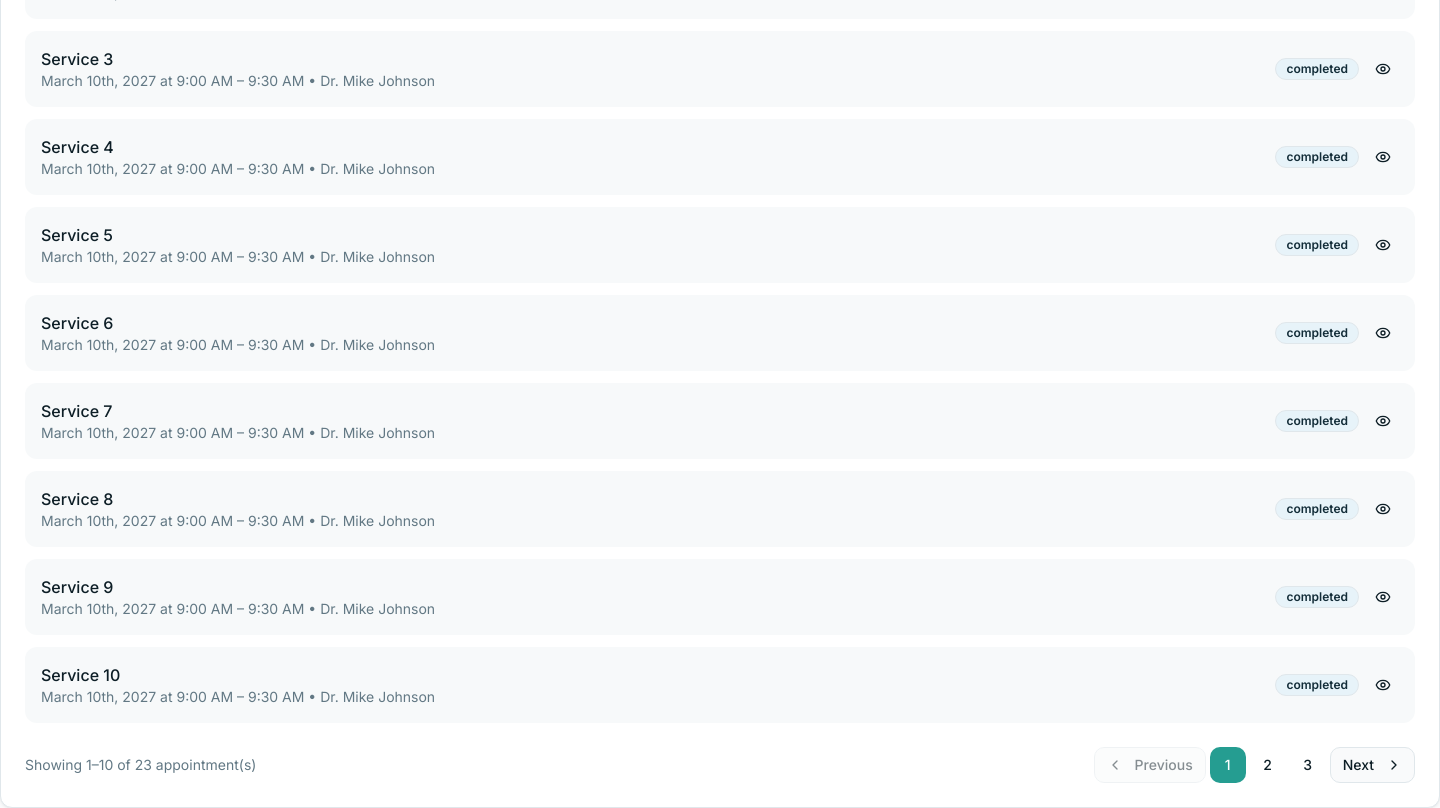
Test case: My Appointments, one page at a time › goes back to the first page when the filter changes
(page scrolled)
Click the button named "Page 3".
click(1308, 765)  # box [1290,747,1326,783]
(page scrolled)
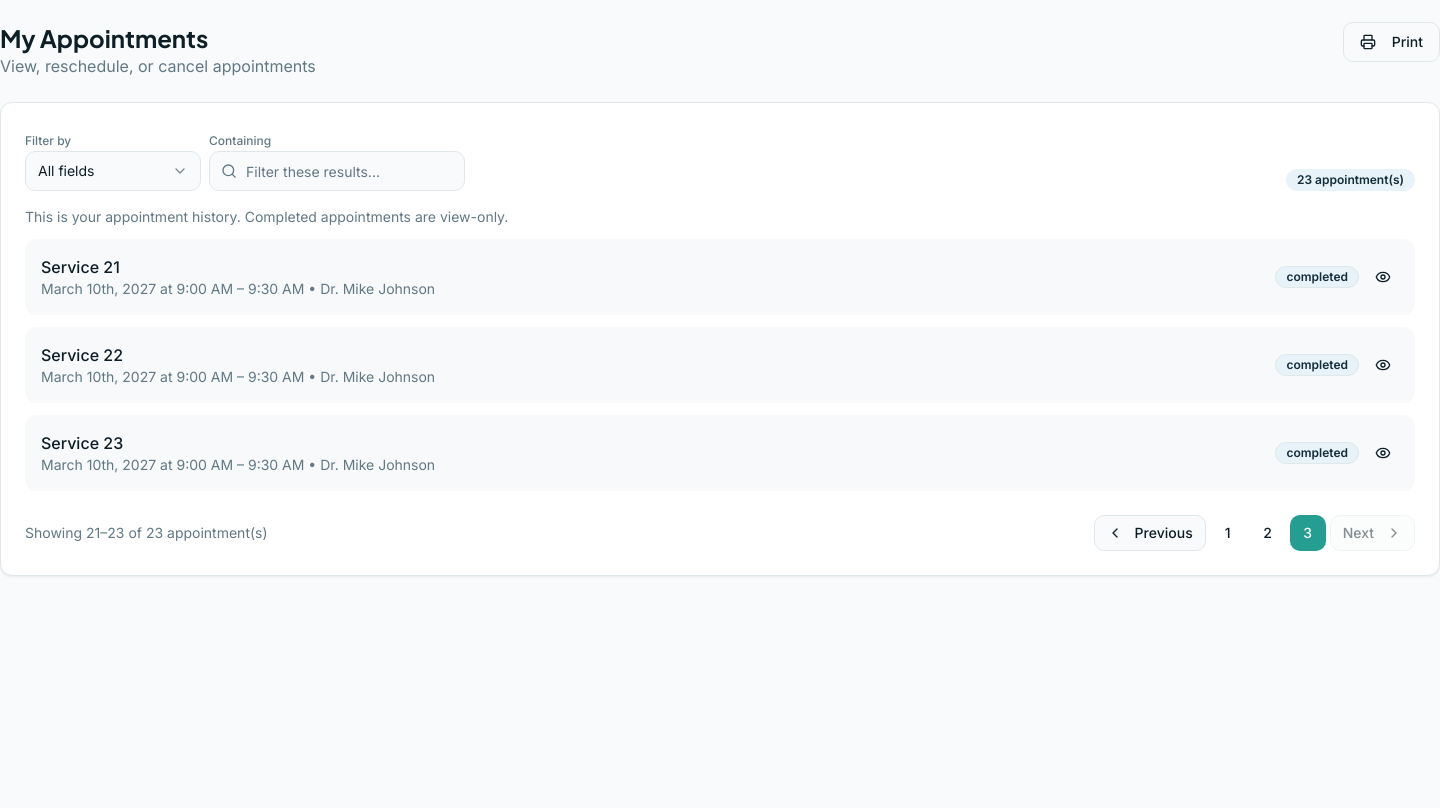
Now the text "Service 21" is shown, box [41,257,120,277]
Type "Service 1" into the field with placeholder "Filter these results...".
click(337, 171); type("Service 1")  # box [209,151,465,191]
(page scrolled)
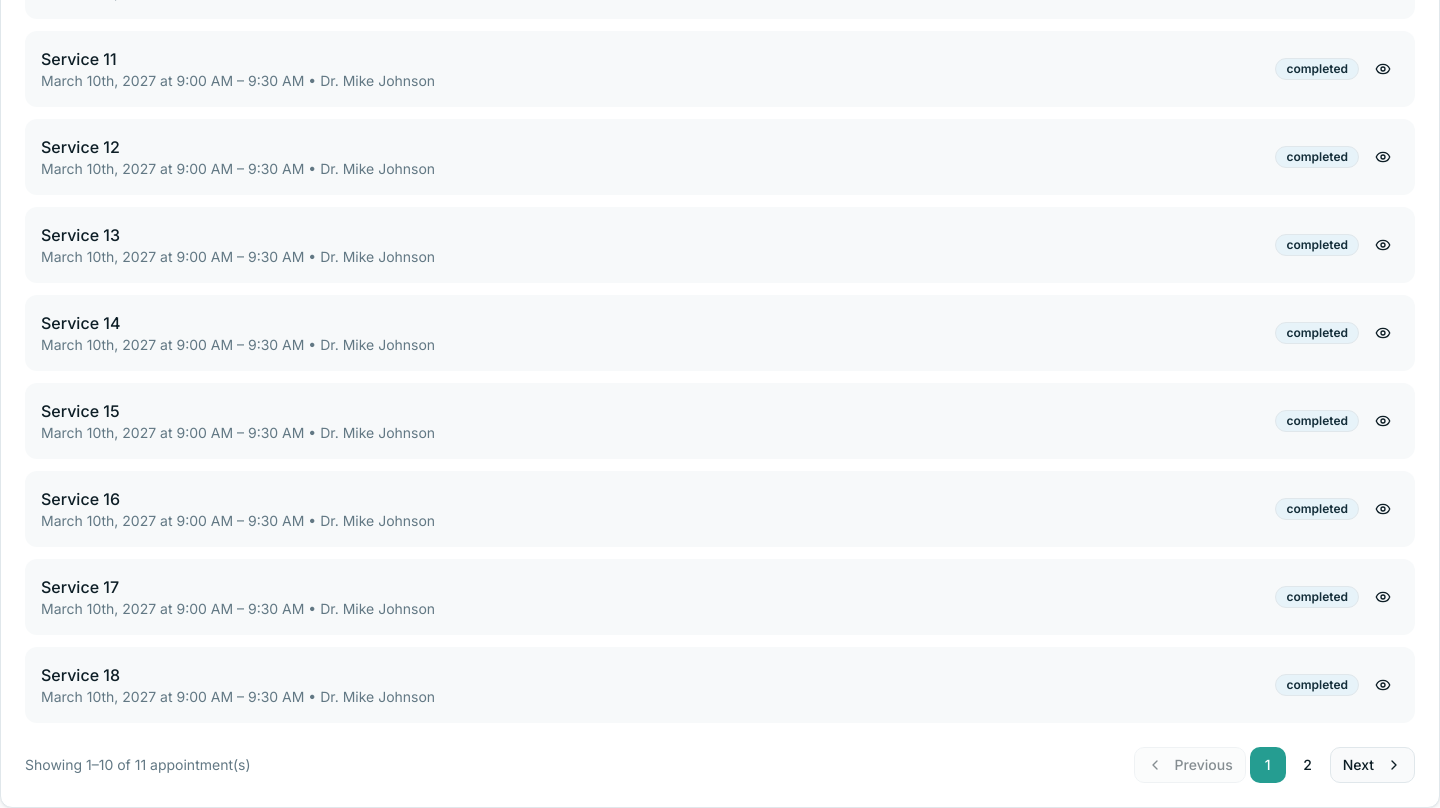
Now the text "Showing 1–10 of 11 appointment(s)" is shown, box [25,755,251,775]
